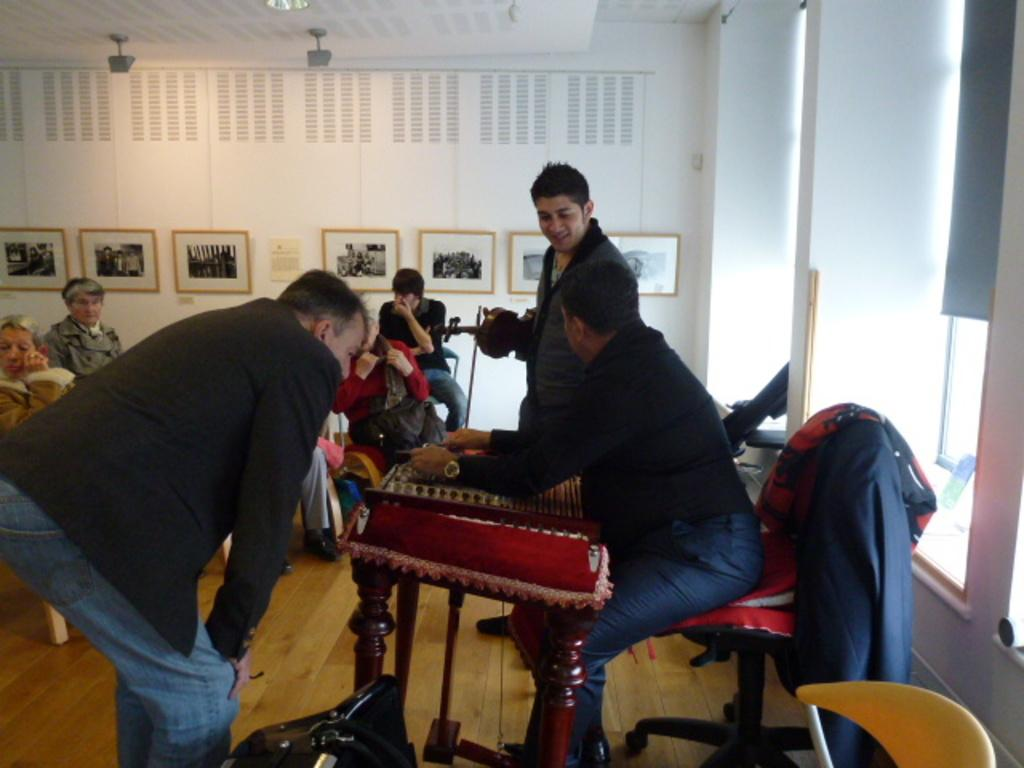Chair: (698, 378, 938, 768)
